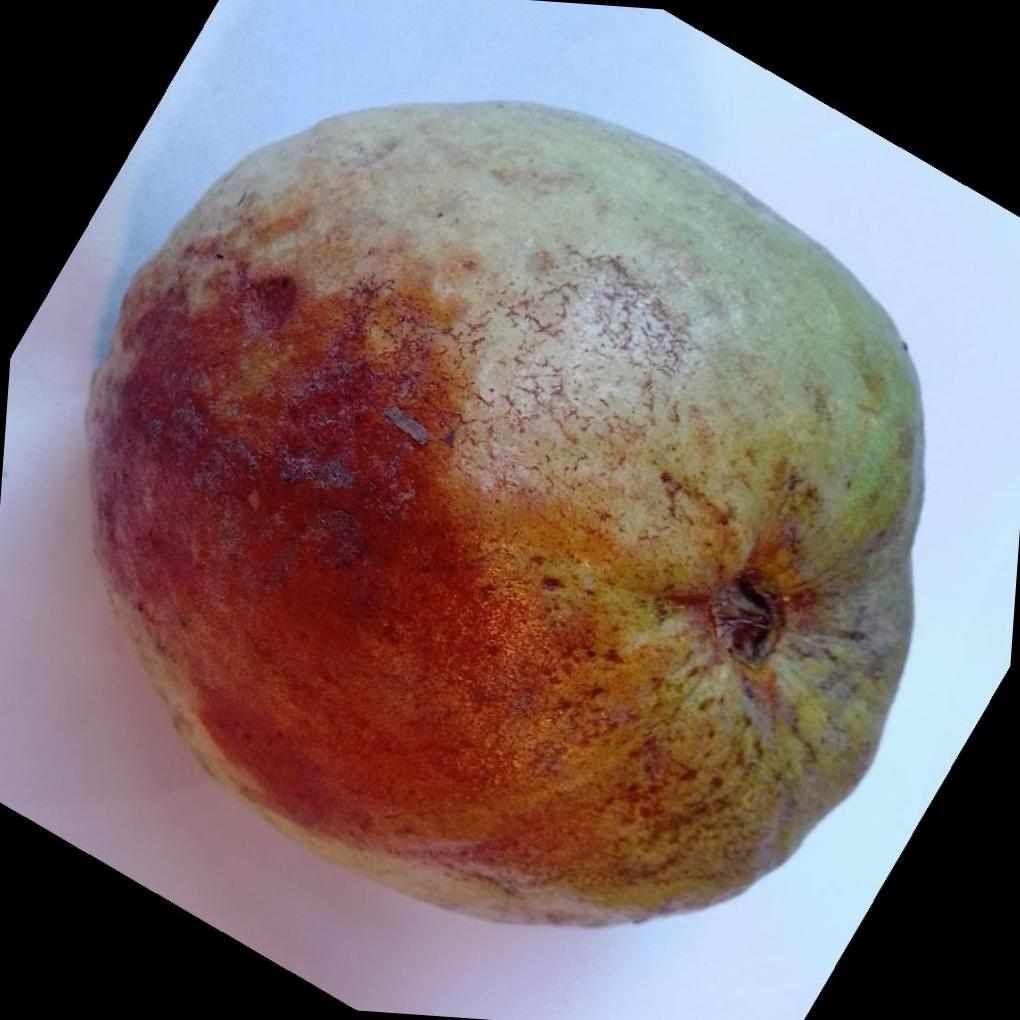FreshOrange: (78, 97, 924, 929)
